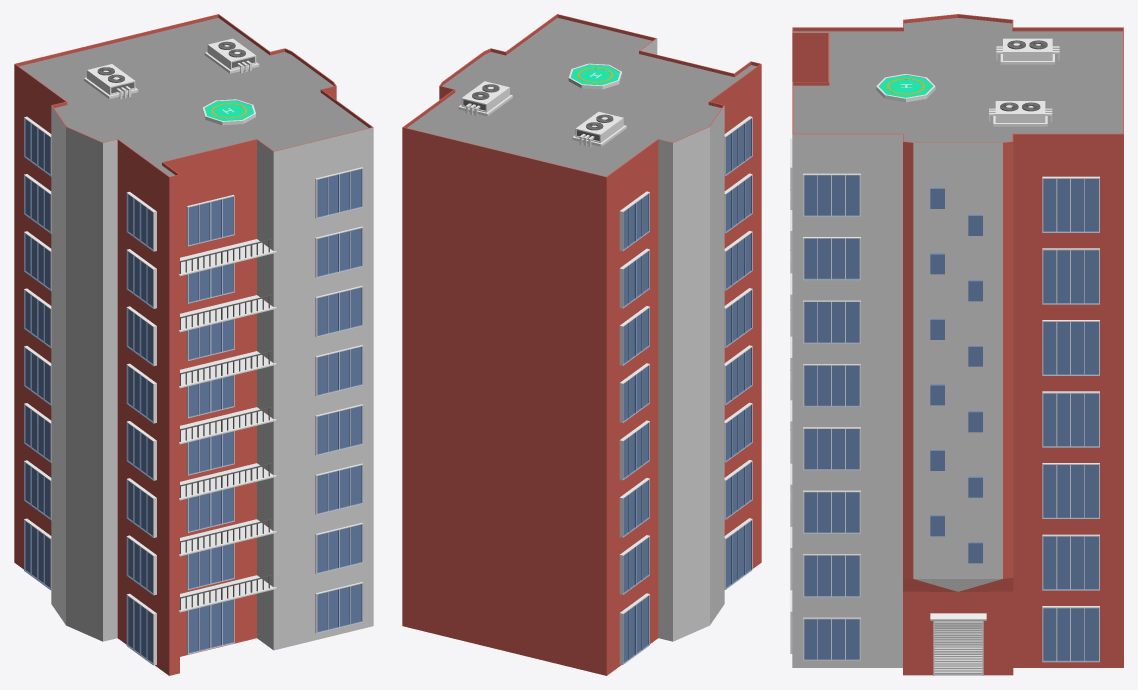
File: Building_12_tran.glb
The picture shows the model from 3 angles, left to right: view 1: azimuth 30°, elevation 25°; view 2: azimuth 150°, elevation 25°; view 3: azimuth 270°, elevation 25°; orthographic projection. The views are drawn at different scales.
Visible parts, largest first — view 1: Cube.13380, Window1.000, Railings_37.001, Windows2.001, Window3.006, Window3.005, Windows2.003, Window3.007, Window3.004, Cube.15121, Cube.15119, Cube.15120; view 2: Cube.13380, Window3.005, Window3.006, Window3.004, Window3.007, Cube.15121, Cube.15119, Cube.15120; view 3: Cube.13380, Window5.000, Window1.000, Small.001, Shutter_4.000, Cube.15121, Cube.15119, Cube.15120.
Boxes of the visible parts, <box> form: Cube.13380: <box>14,14,373,675</box>; Window1.000: <box>315,167,362,633</box>; Railings_37.001: <box>178,238,276,612</box>; Windows2.001: <box>186,195,234,589</box>; Window3.006: <box>126,191,156,595</box>; Window3.005: <box>24,116,51,519</box>; Windows2.003: <box>186,599,234,654</box>; Window3.007: <box>126,593,156,665</box>; Window3.004: <box>24,518,51,590</box>; Cube.15121: <box>84,64,138,99</box>; Cube.15119: <box>204,38,259,73</box>; Cube.15120: <box>202,99,255,125</box>; Cube.13380: <box>402,14,761,675</box>; Window3.005: <box>619,191,649,594</box>; Window3.006: <box>724,116,752,519</box>; Window3.004: <box>619,593,649,664</box>; Window3.007: <box>724,518,752,589</box>; Cube.15121: <box>572,111,626,146</box>; Cube.15119: <box>458,81,512,116</box>; Cube.15120: <box>568,63,622,89</box>; Cube.13380: <box>792,14,1123,675</box>; Window5.000: <box>1042,176,1099,662</box>; Window1.000: <box>790,143,860,660</box>; Small.001: <box>930,188,982,563</box>; Shutter_4.000: <box>930,613,986,675</box>; Cube.15121: <box>996,38,1059,64</box>; Cube.15119: <box>989,101,1052,126</box>; Cube.15120: <box>876,74,935,102</box>.
Size of the model in its own units: 0.3295 by 0.631 by 0.3511.
